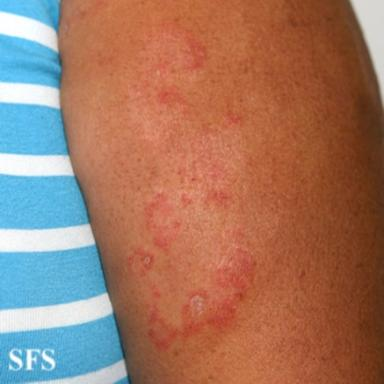Tinea-Corporis: (124, 21, 259, 353), (128, 249, 157, 277)
